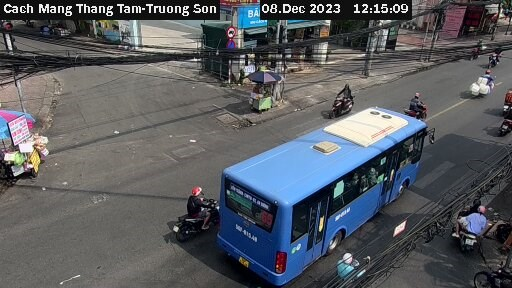bus: (218, 104, 428, 281)
motorbike: (440, 199, 497, 244), (169, 186, 218, 238), (325, 83, 361, 117), (402, 91, 435, 122), (467, 66, 495, 101), (483, 44, 503, 66)
